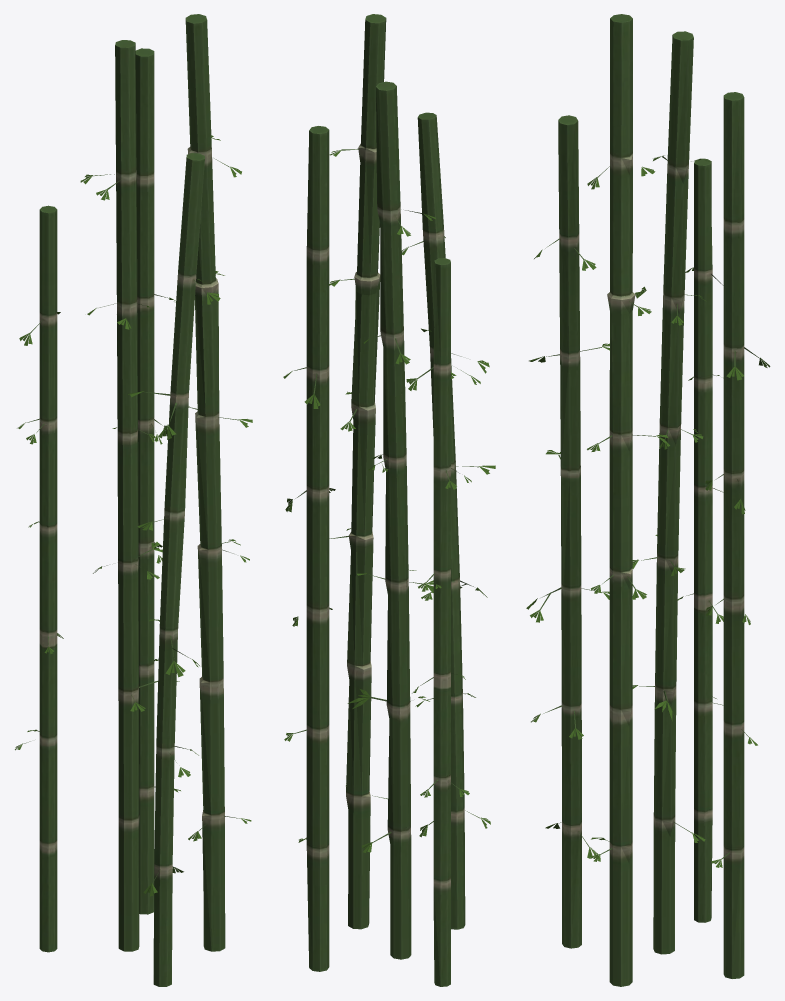
File: bamboo.glb
3 renders of one model, left to right at view 1: azimuth 30°, elevation 25°; view 2: azimuth 150°, elevation 25°; view 3: azimuth 270°, elevation 25°, orthographic. The views are drawn at different scales.
Parts seen in each view (by area): view 1: BambooTree_mesh; view 2: BambooTree_mesh; view 3: BambooTree_mesh.
Part boxes in pixels (x1,y1,x2,y2): BambooTree_mesh: [15, 14, 252, 986]; BambooTree_mesh: [283, 14, 495, 986]; BambooTree_mesh: [526, 14, 770, 986].
Bounding box in the file's own units: 3.88 × 18.13 × 4.23.
1 material, 1 textured.
